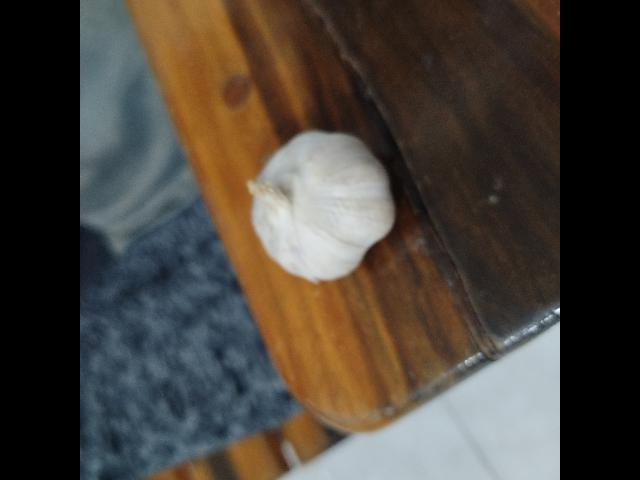garlic: (246, 128, 396, 284)
